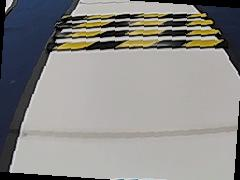bump: (43, 8, 232, 56)
